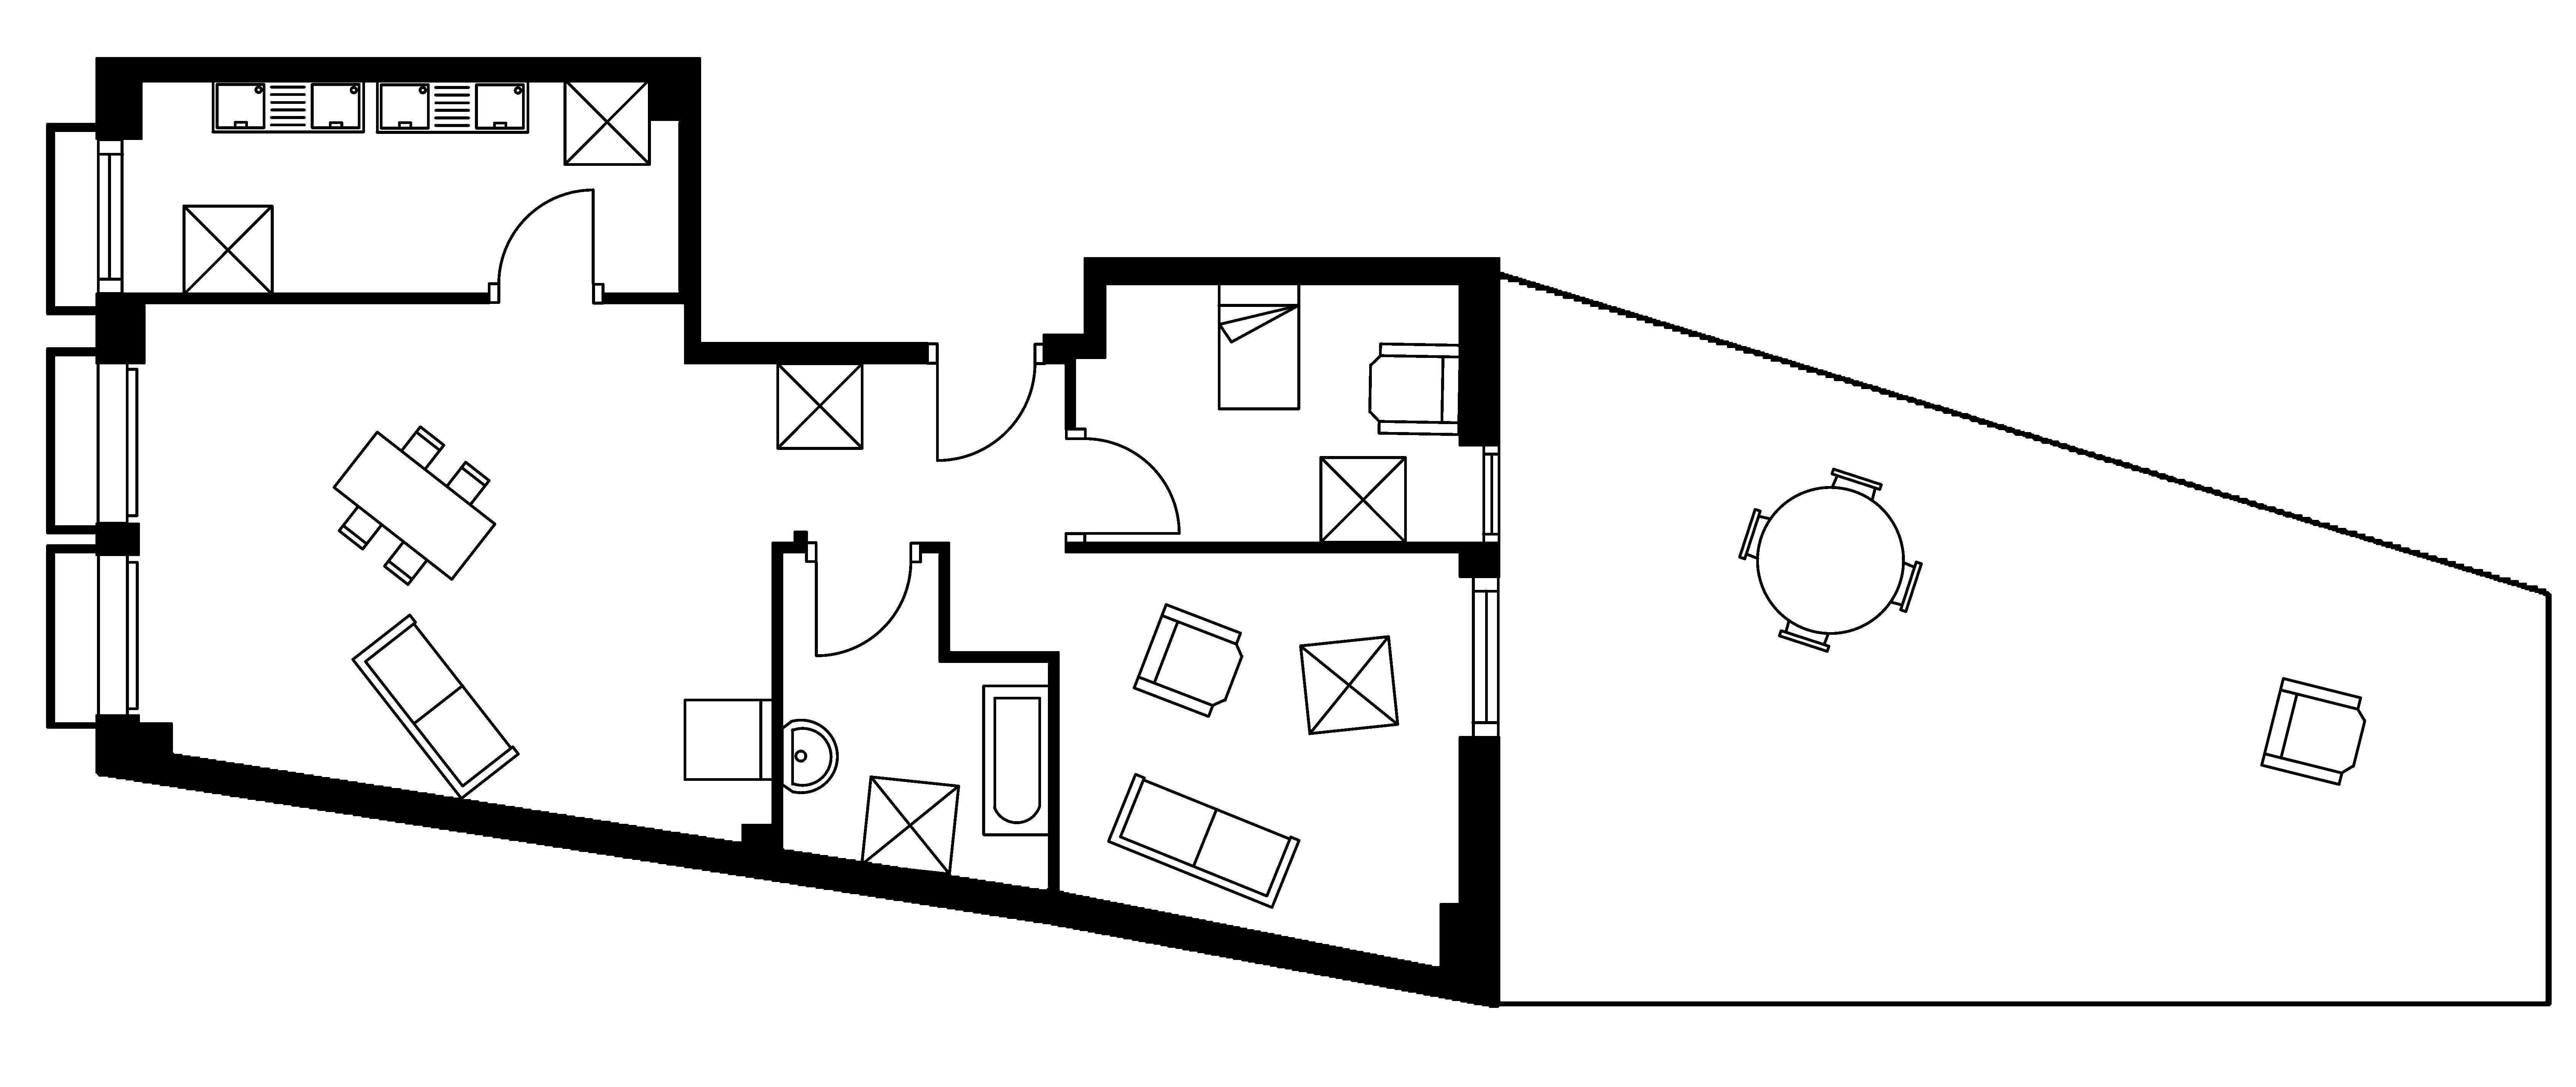armchair: (1132, 602, 1244, 719), (2259, 676, 2366, 786), (1367, 342, 1462, 436)
bed: (1217, 281, 1301, 411)
coffee_table: (1298, 635, 1400, 735), (859, 775, 959, 875), (181, 204, 274, 296), (562, 77, 651, 166), (775, 362, 864, 451), (1319, 456, 1408, 544)
dining_table: (332, 424, 496, 585)
large_sofa: (350, 613, 519, 801), (1106, 771, 1301, 909)
round_table: (1736, 467, 1922, 653)
small_sink: (780, 719, 838, 794)
small_sofa: (682, 697, 774, 781)
tub: (981, 684, 1051, 837)
twin_sink: (375, 77, 529, 133), (210, 77, 365, 133)
